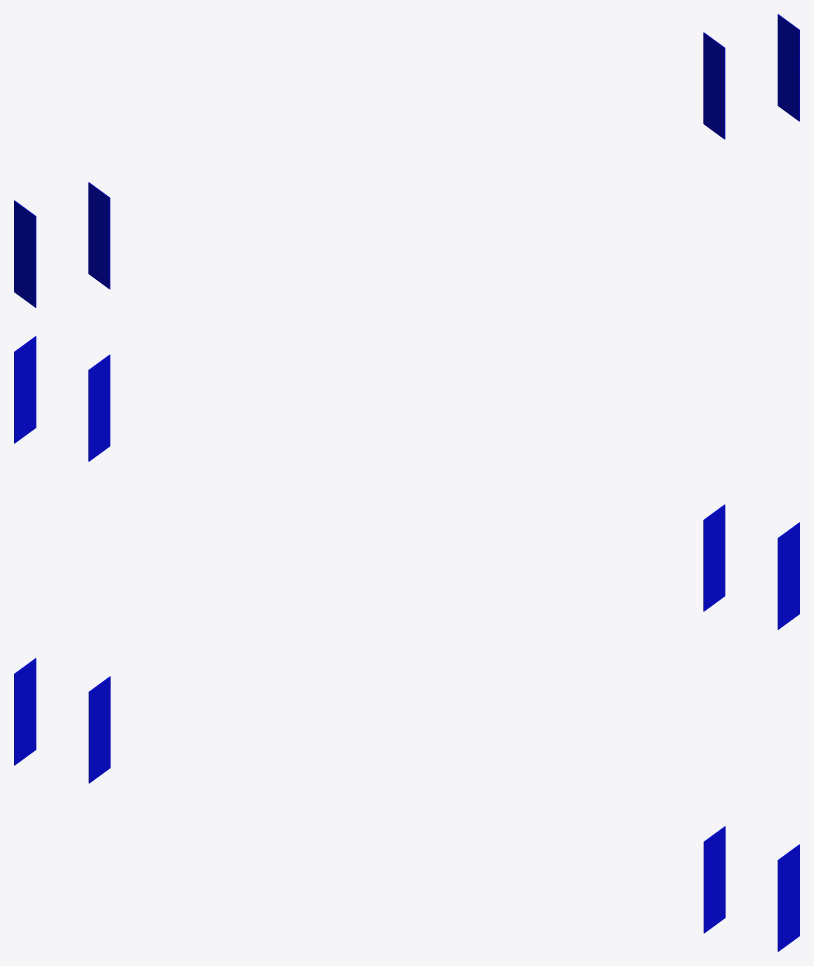
File: Al_Nasar_Football_Stadium_FrontDoors.FBX
3 renders of one model, top to bottom at view 1: azimuth 30°, elevation 25°; view 2: azimuth 150°, elevation 25°; view 3: azimuth 330°, elevation 25°, orthographic.
Visible parts, largest first — view 1: Al_Nasar_Football_Stadium_FrontDoors; view 2: Al_Nasar_Football_Stadium_FrontDoors; view 3: Al_Nasar_Football_Stadium_FrontDoors.
Part boxes in pixels (x1,y1,x2,y2): Al_Nasar_Football_Stadium_FrontDoors: [14, 14, 799, 307]; Al_Nasar_Football_Stadium_FrontDoors: [14, 336, 799, 629]; Al_Nasar_Football_Stadium_FrontDoors: [14, 658, 799, 951].
Size of the model in its own units: 2995 by 147 by 343.
